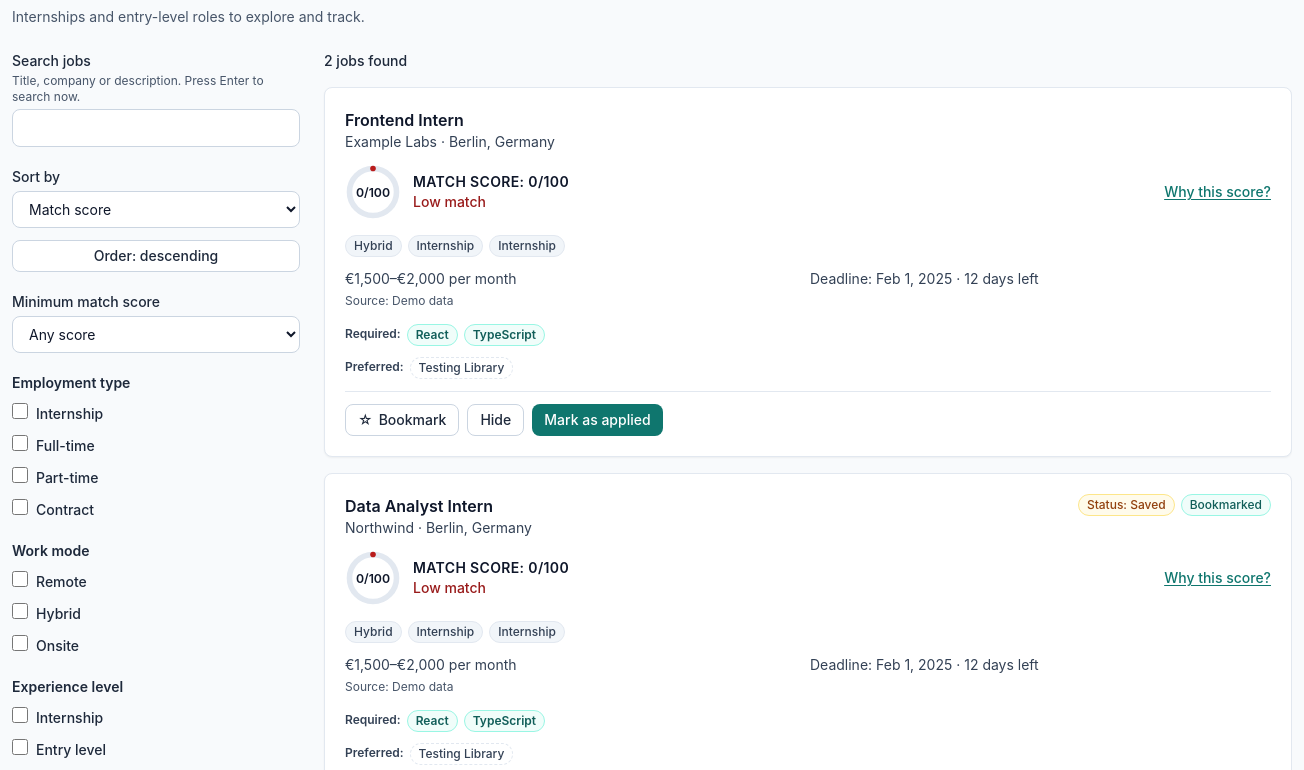
JobsPage › bookmarks and removes bookmarks through the API with toasts
This screenshot has width=1304, height=770.
Check: the element "Frontend Intern" is shown, box top-left (324, 87), bottom-right (1292, 457)
Click the button "☆ Bookmark": (402, 420) top-left (345, 404), bottom-right (459, 436)
(page scrolled)
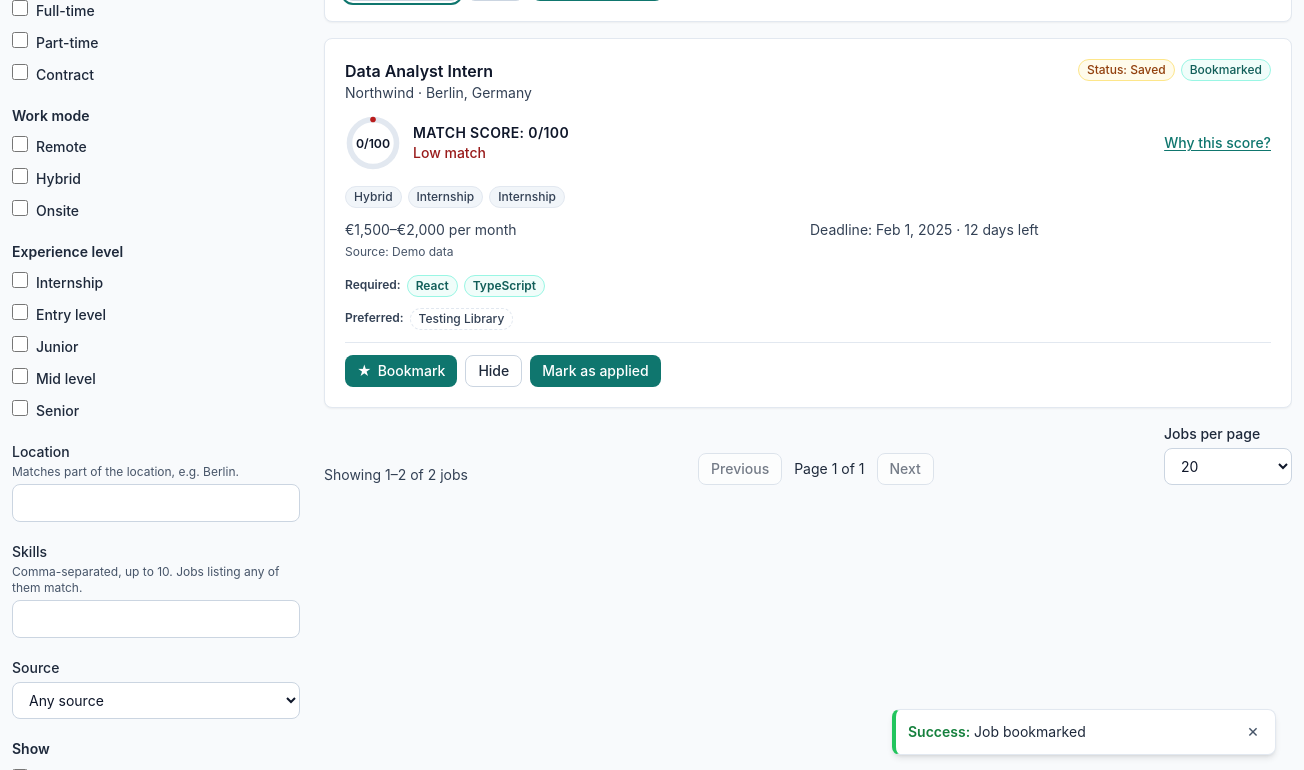
Check: the text "Job bookmarked" is shown, box top-left (974, 723), bottom-right (1086, 740)
Click the button "★ Bookmark": (401, 371) top-left (345, 355), bottom-right (457, 387)
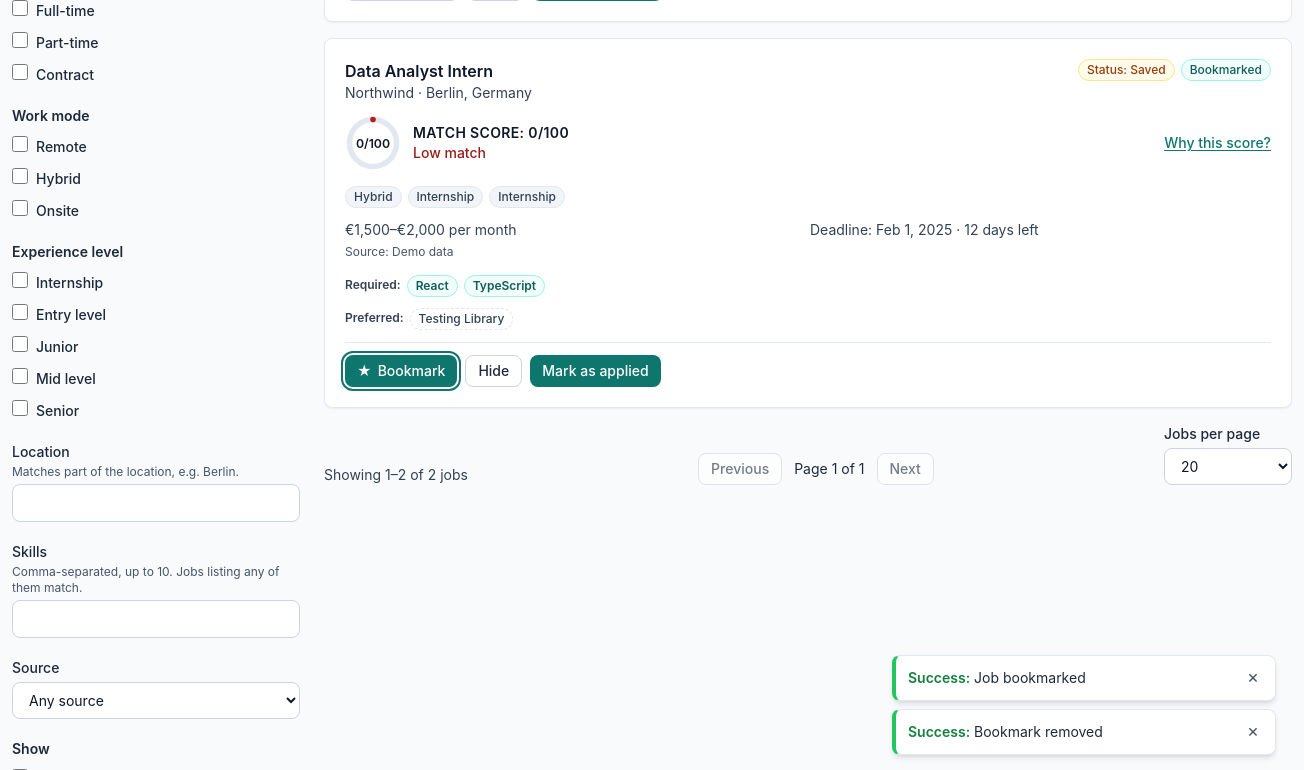
Check: the text "Bookmark removed" is shown, box top-left (974, 723), bottom-right (1103, 740)
